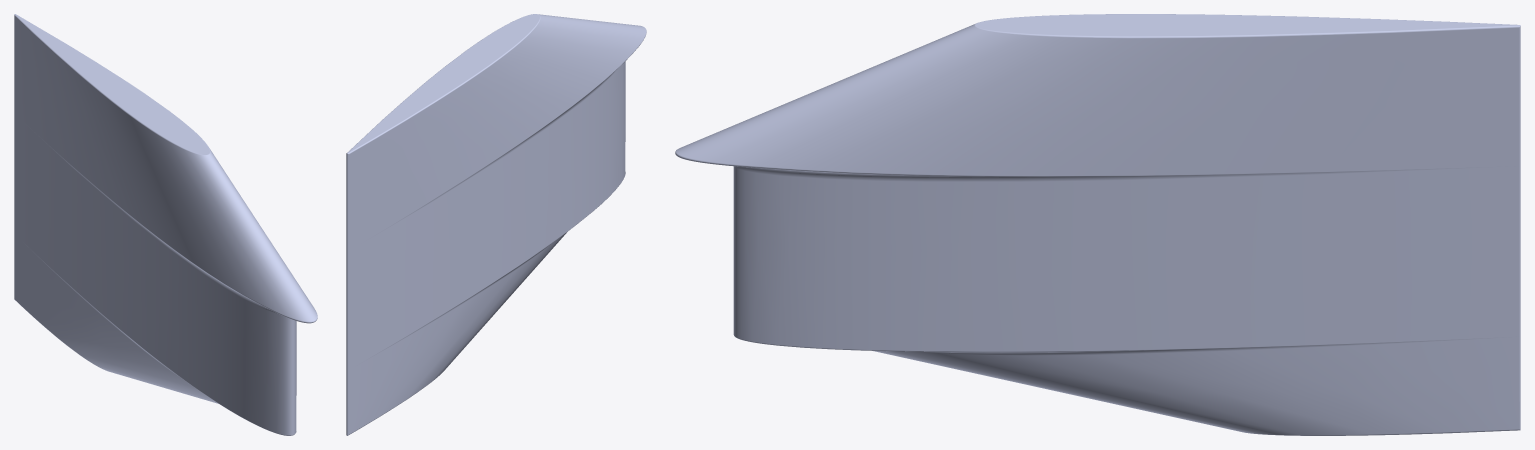
The model's file is toprudder.fbx.
The picture shows the model from 3 angles, left to right: view 1: azimuth 30°, elevation 25°; view 2: azimuth 150°, elevation 25°; view 3: azimuth 270°, elevation 25°; orthographic projection. The views are drawn at different scales.
Parts seen in each view (by area): view 1: Body1; view 2: Body1; view 3: Body1.
Part boxes in pixels (x1,y1,x2,y2): Body1: (14,14,317,435); Body1: (346,14,646,435); Body1: (675,14,1520,435).
Size of the model in its own units: 29 by 150 by 284.
